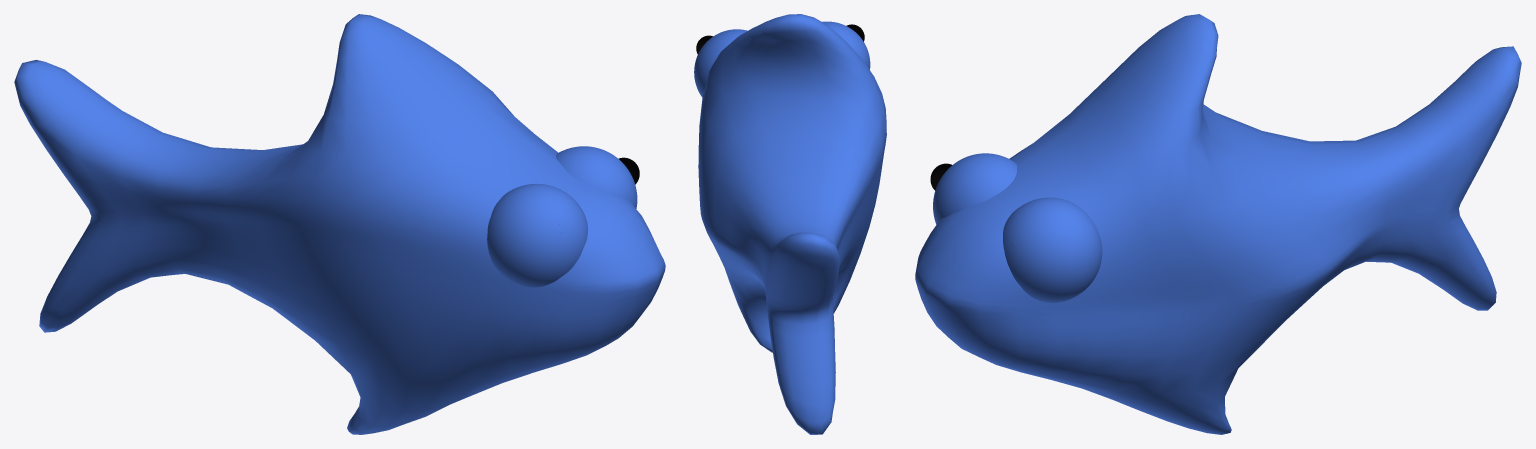
Rendered from bluefish.fbx.
3 renders of one model, left to right at view 1: azimuth 30°, elevation 25°; view 2: azimuth 150°, elevation 25°; view 3: azimuth 270°, elevation 25°, orthographic. The views are drawn at different scales.
Parts seen in each view (by area): view 1: Cube; view 2: Cube; view 3: Cube.
Boxes of the visible parts, x1,y1,x2,y2 form: Cube: (14,14,665,434); Cube: (694,14,886,434); Cube: (915,14,1521,434).
Bounding box in the file's own units: 254 × 255 × 341.
